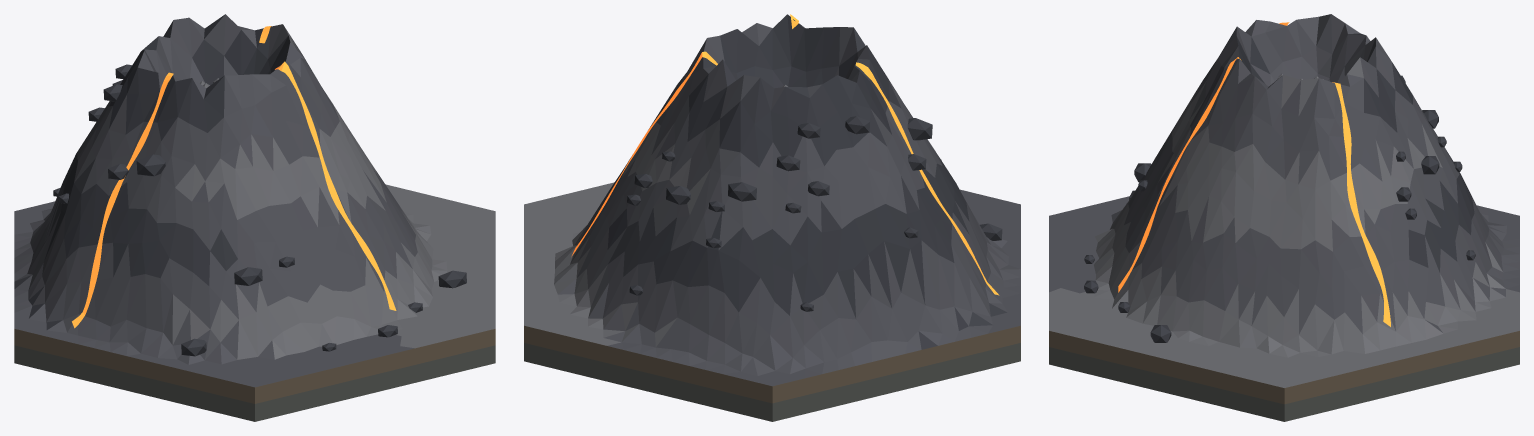
File: volcano.glb
3 renders of one model, left to right at view 1: azimuth 30°, elevation 25°; view 2: azimuth 150°, elevation 25°; view 3: azimuth 270°, elevation 25°, orthographic. The views are drawn at different scales.
Visible parts, largest first — view 1: LandformRoot_mesh, LavaTongue.001_mesh, LavaTongue.003_mesh; view 2: LandformRoot_mesh, LavaTongue.003_mesh, LavaTongue.005_mesh; view 3: LandformRoot_mesh, LavaTongue.005_mesh, LavaTongue.001_mesh.
Boxes of the visible parts, <box> form: LandformRoot_mesh: <box>14,14,495,421</box>; LavaTongue.001_mesh: <box>275,61,396,310</box>; LavaTongue.003_mesh: <box>72,72,173,328</box>; LandformRoot_mesh: <box>524,14,1020,421</box>; LavaTongue.003_mesh: <box>855,62,999,295</box>; LavaTongue.005_mesh: <box>571,51,717,256</box>; LandformRoot_mesh: <box>1049,14,1519,421</box>; LavaTongue.005_mesh: <box>1332,82,1390,326</box>; LavaTongue.001_mesh: <box>1118,57,1241,292</box>.
Bounding box in the file's own units: 3.5 × 1.81 × 3.03.
